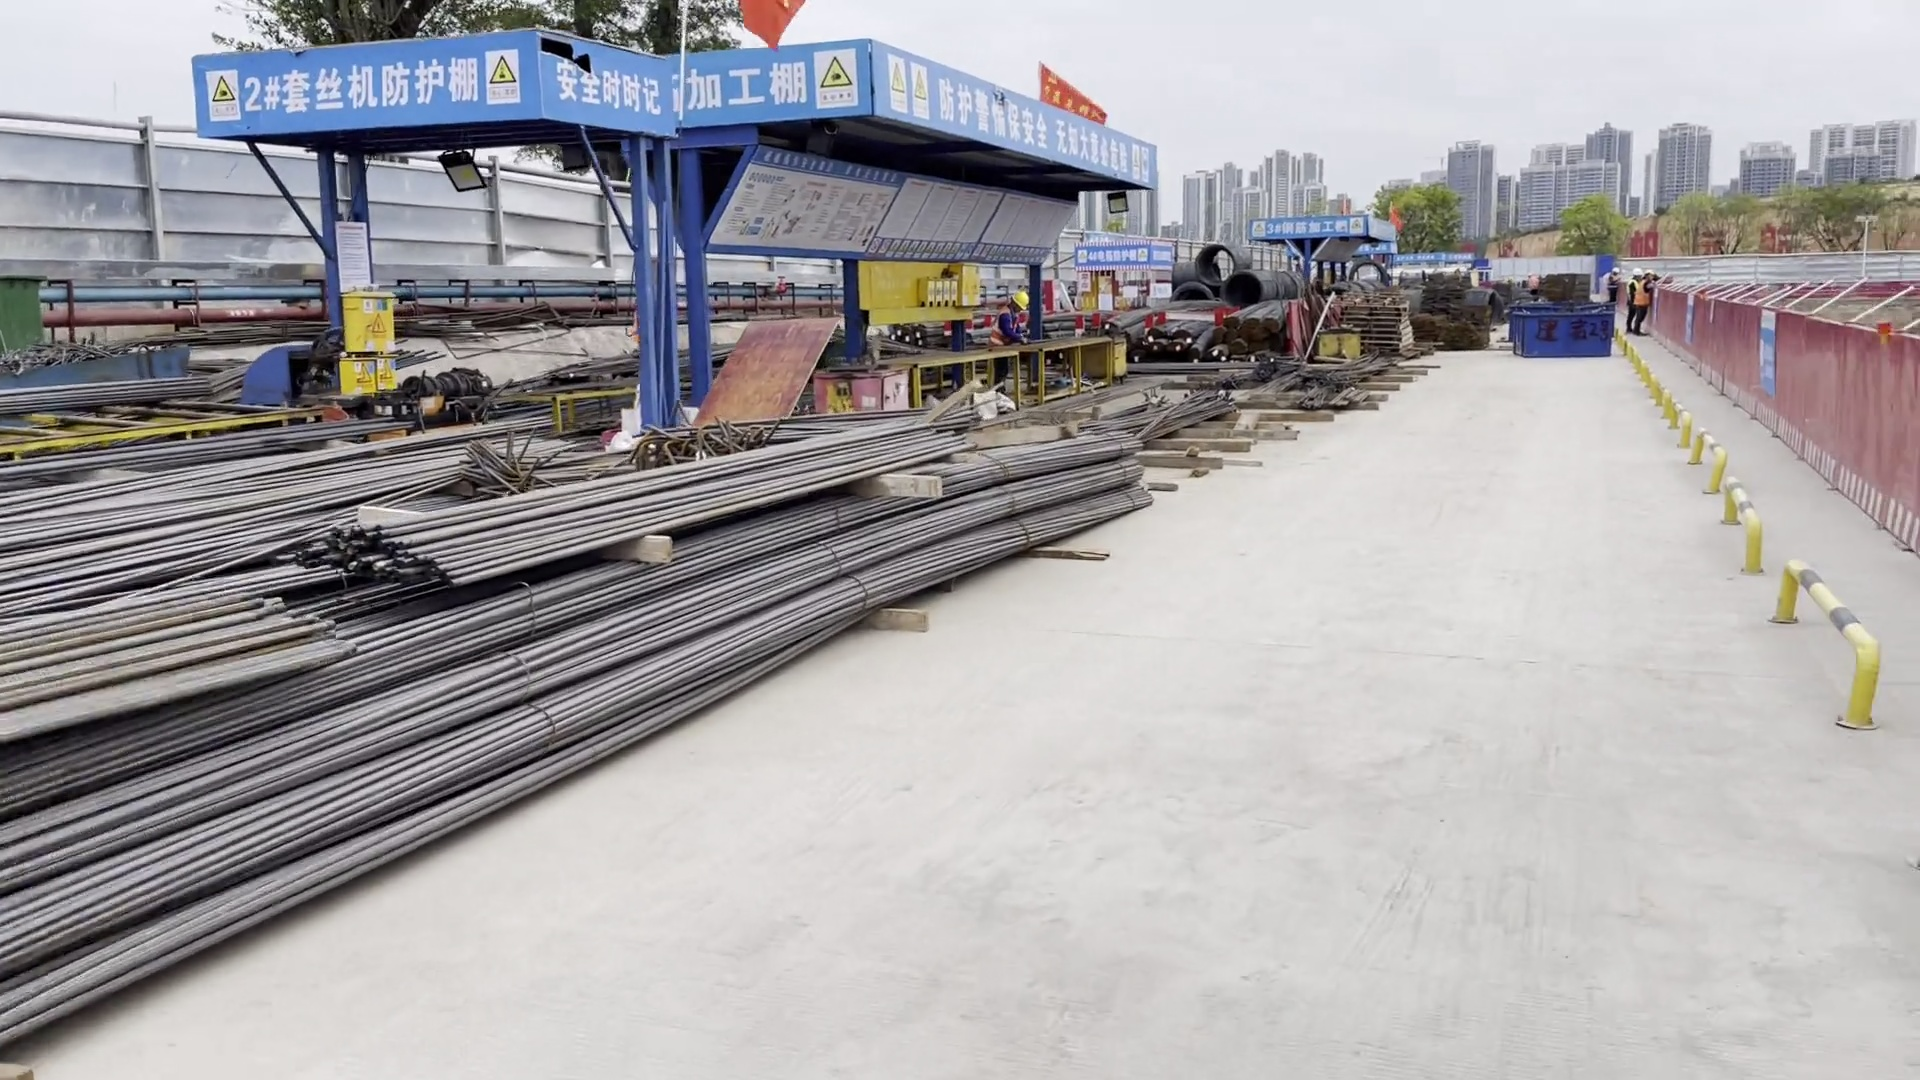ebox: (338, 275, 423, 406), (956, 258, 982, 319)
fence: (1652, 283, 1920, 562)
helmet: (1009, 291, 1027, 310), (1643, 269, 1655, 275), (1612, 268, 1620, 274), (1634, 269, 1641, 276)
hopper: (1504, 305, 1617, 363)
person: (992, 290, 1033, 349), (1633, 269, 1661, 335), (1622, 269, 1641, 327), (1604, 267, 1623, 303)
rebar: (6, 426, 1156, 1058), (303, 424, 962, 594), (1, 552, 332, 726), (1, 358, 237, 432), (1119, 387, 1254, 450), (1105, 296, 1228, 332), (1223, 300, 1267, 327), (1187, 327, 1214, 358), (1245, 304, 1275, 331), (1268, 304, 1293, 333), (1171, 320, 1212, 337), (1141, 323, 1170, 341), (1215, 327, 1238, 345), (1166, 339, 1188, 357), (1147, 338, 1172, 354), (1126, 349, 1150, 364), (1230, 337, 1249, 356), (1203, 345, 1226, 359), (1252, 337, 1268, 355)
slogan: (943, 79, 1153, 182), (554, 67, 669, 112)
vest: (992, 308, 1012, 348), (1635, 279, 1650, 304), (1626, 280, 1638, 304), (1607, 275, 1617, 290)
